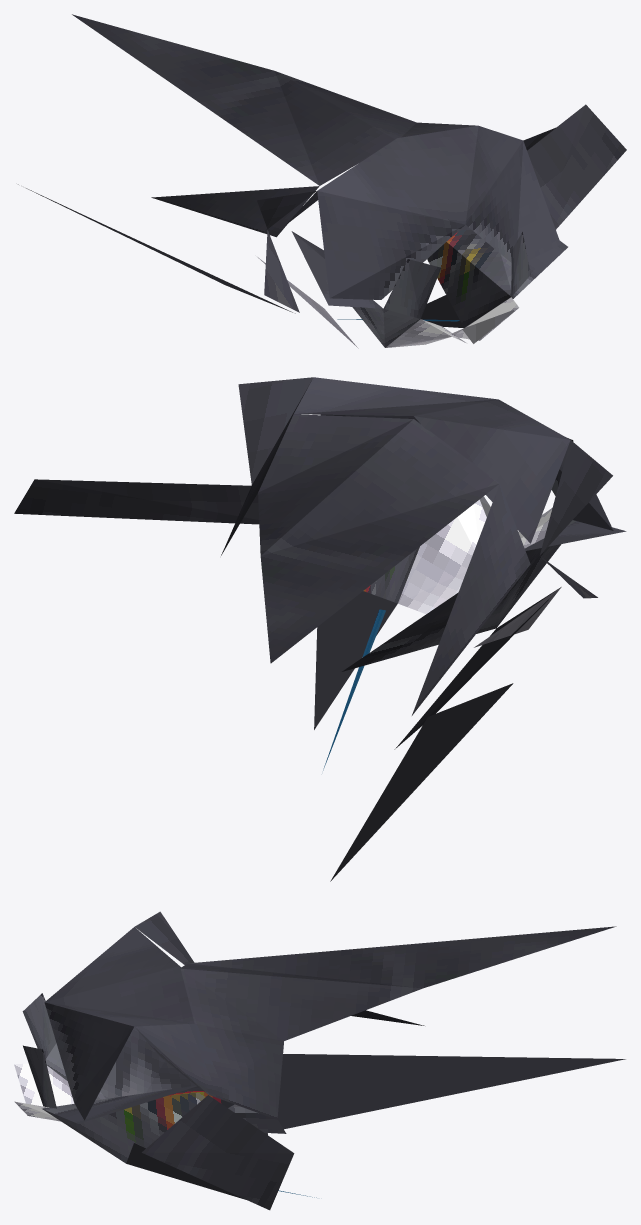
Rendered from makoto_n6.obj.
The picture shows the model from 3 angles, top to bottom: view 1: azimuth 30°, elevation 25°; view 2: azimuth 150°, elevation 25°; view 3: azimuth 270°, elevation 25°; orthographic projection. The views are drawn at different scales.
Size of the model in its own units: 0.4869 by 0.2522 by 0.6017.
5 materials, 5 textured.
